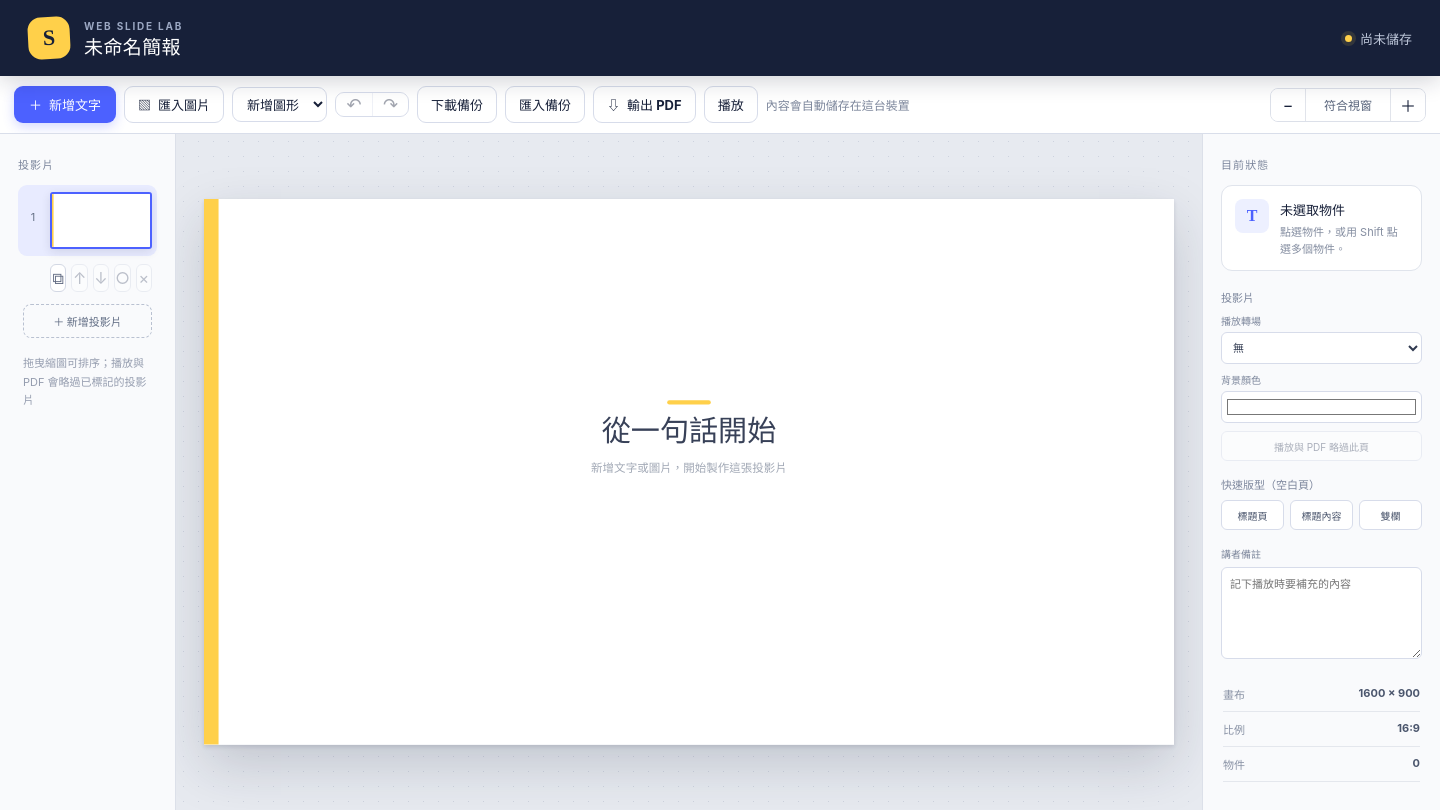
Test: App › deletes a selected element from the canvas with Delete
This screenshot has width=1440, height=810.
Click the button "＋ 新增文字": (65, 104) [14,86,116,123]
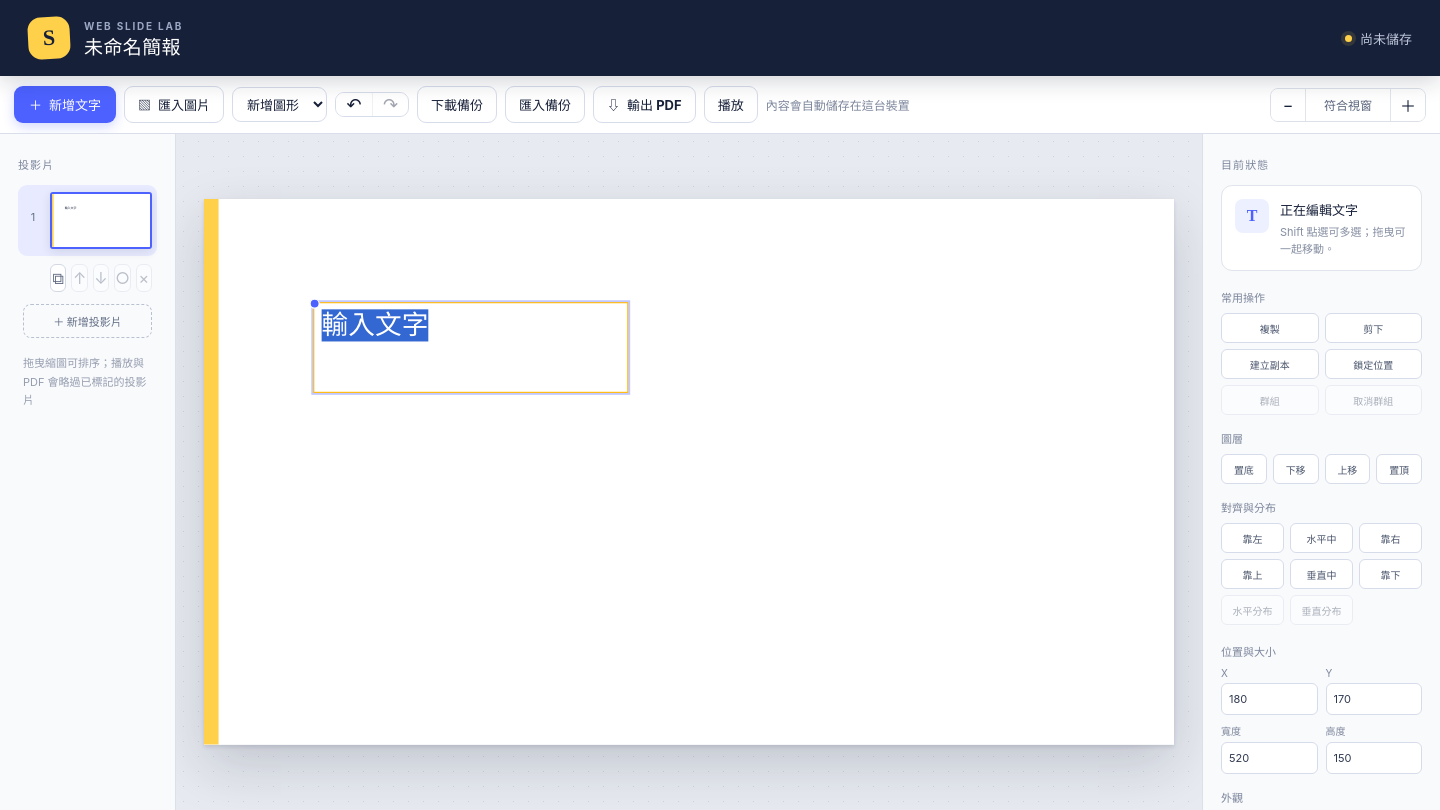
Leave the text box named "文字內容", box [314,304,627,392]
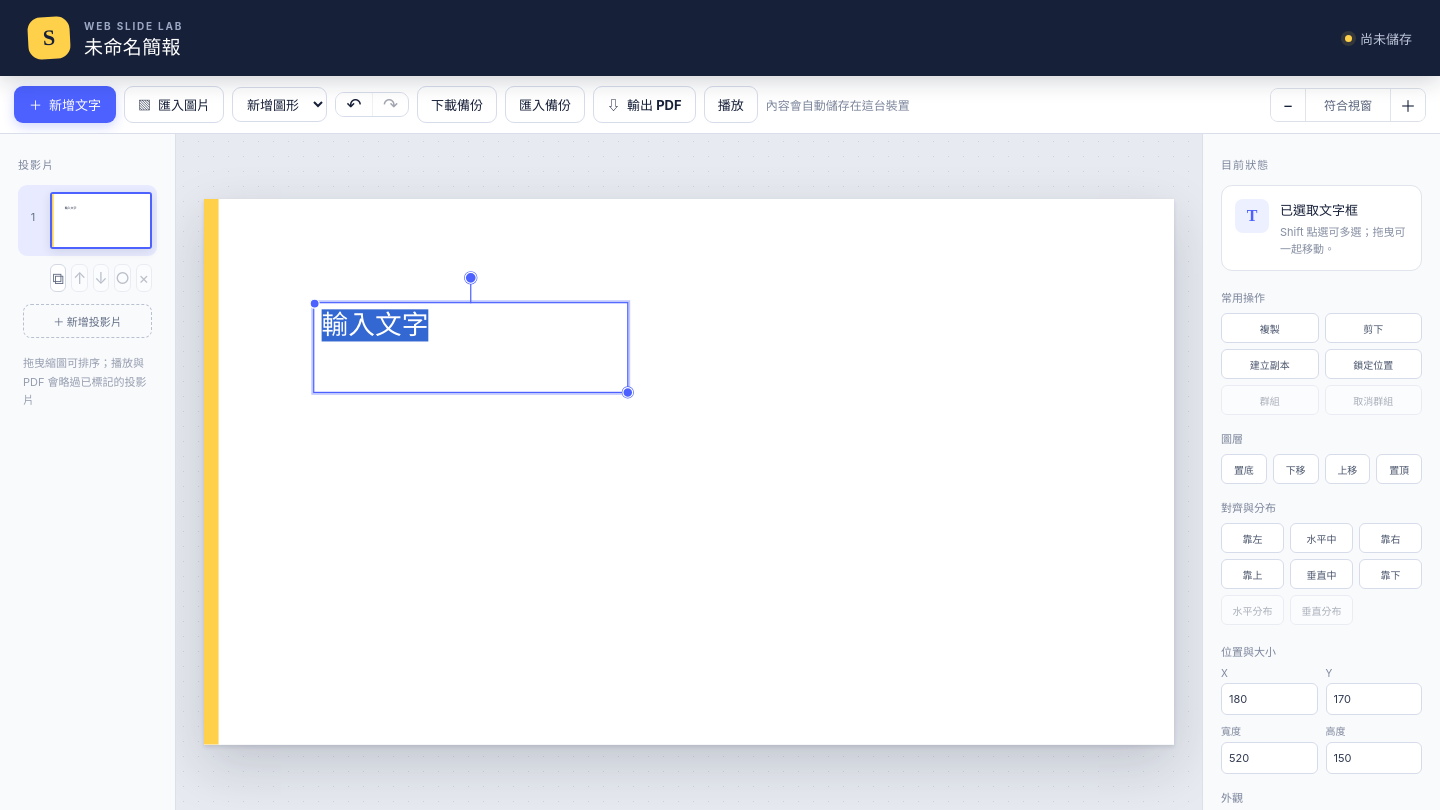
Press Delete
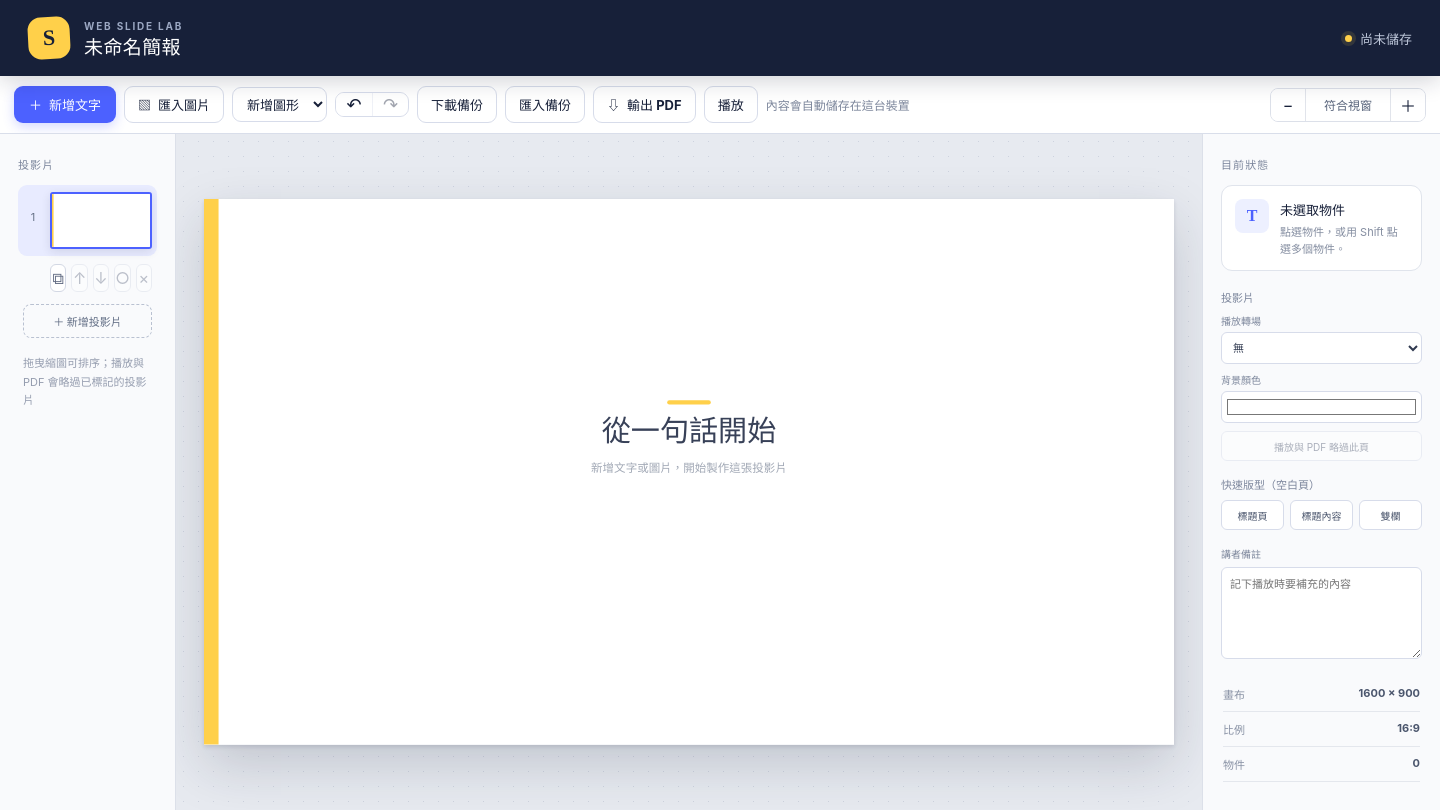
Expected: the text box labelled "文字內容" is gone
